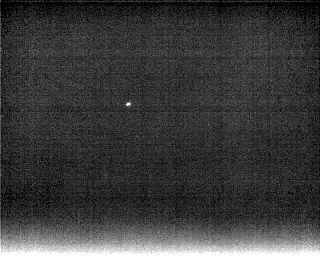BIRD: (124, 99, 133, 109)
